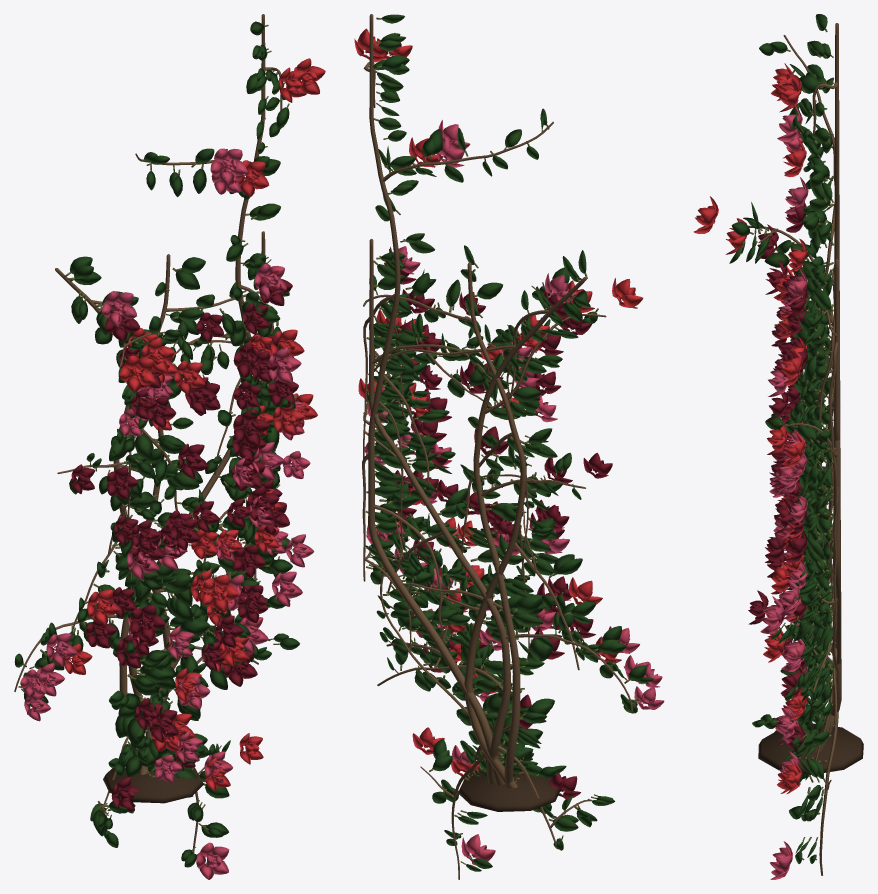
File: climber_rose_red_30.glb
3 renders of one model, left to right at view 1: azimuth 30°, elevation 25°; view 2: azimuth 150°, elevation 25°; view 3: azimuth 270°, elevation 25°, orthographic. The views are drawn at different scales.
Parts seen in each view (by area): view 1: Sammel Pflanze, Sammel Holz, Sammel Putz; view 2: Sammel Pflanze, Sammel Holz, Sammel Putz; view 3: Sammel Pflanze, Sammel Holz, Sammel Putz.
Part boxes in pixels (box(x1,y1,x2,y2)): Sammel Pflanze: box(14, 21, 325, 879); Sammel Holz: box(14, 14, 294, 853); Sammel Putz: box(18, 24, 297, 854); Sammel Pflanze: box(354, 14, 664, 871); Sammel Holz: box(362, 14, 632, 879); Sammel Putz: box(365, 17, 639, 864); Sammel Pflanze: box(693, 14, 833, 879); Sammel Holz: box(748, 23, 841, 875); Sammel Putz: box(741, 28, 863, 860).
Bounding box in the file's own units: 1.17 × 3.05 × 0.5274.
